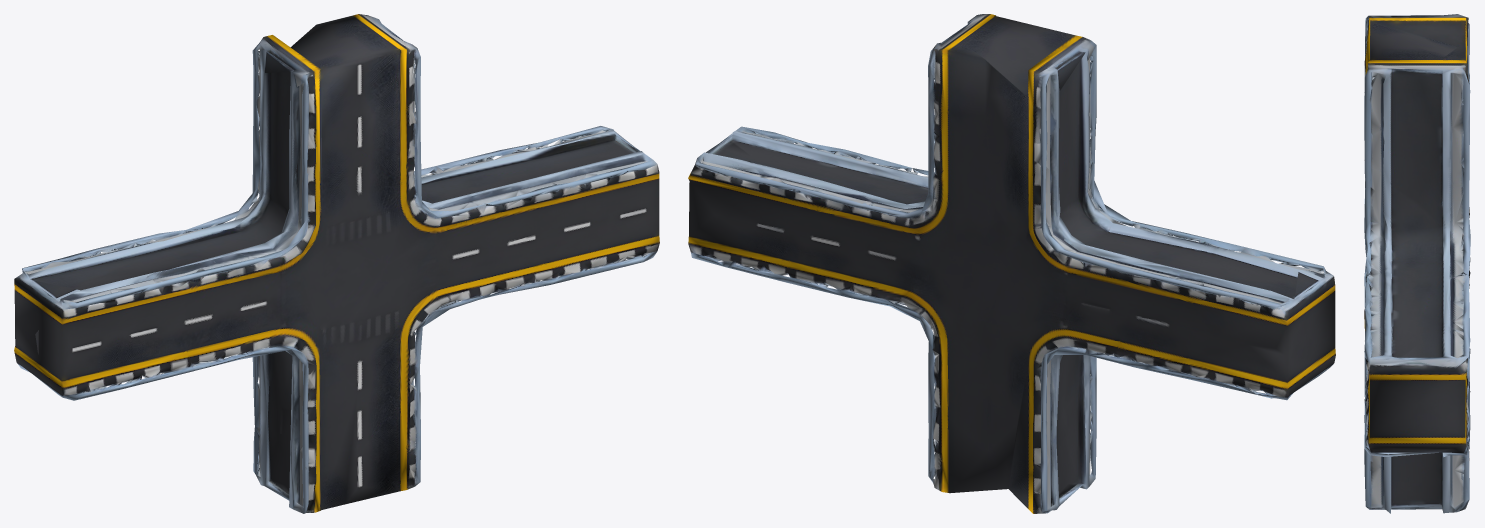
The model's file is 2-2laneintersection.glb.
The picture shows the model from 3 angles, left to right: view 1: azimuth 30°, elevation 25°; view 2: azimuth 150°, elevation 25°; view 3: azimuth 270°, elevation 25°; orthographic projection.
Parts seen in each view (by area): view 1: tripo_node_626feb81-3a04-4347-8904-15ae08003055; view 2: tripo_node_626feb81-3a04-4347-8904-15ae08003055; view 3: tripo_node_626feb81-3a04-4347-8904-15ae08003055.
Part boxes in pixels (<box>): tripo_node_626feb81-3a04-4347-8904-15ae08003055: <box>14,14,659,513</box>; tripo_node_626feb81-3a04-4347-8904-15ae08003055: <box>688,14,1335,513</box>; tripo_node_626feb81-3a04-4347-8904-15ae08003055: <box>1364,14,1470,513</box>.
Size of the model in its own units: 1 by 0.7023 by 0.1527.
1 material, 1 textured.
